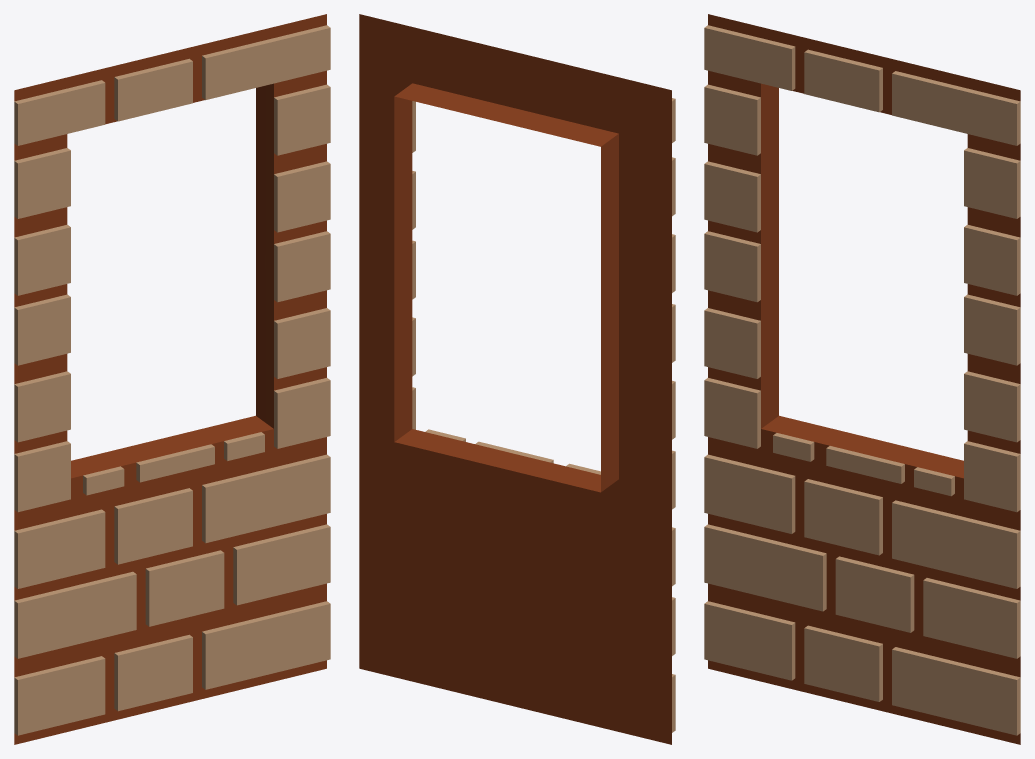
File: Ext-BrickV1SmallWindowframe.fbx
The picture shows the model from 3 angles, left to right: view 1: azimuth 30°, elevation 25°; view 2: azimuth 150°, elevation 25°; view 3: azimuth 330°, elevation 25°; orthographic projection.
Parts seen in each view (by area): view 1: Ext-BrickV1SmallWindowframe; view 2: Ext-BrickV1SmallWindowframe; view 3: Ext-BrickV1SmallWindowframe.
Boxes of the visible parts, left/top/right/bottom form: Ext-BrickV1SmallWindowframe: left=14, top=14, right=330, bottom=744; Ext-BrickV1SmallWindowframe: left=359, top=14, right=675, bottom=744; Ext-BrickV1SmallWindowframe: left=704, top=14, right=1020, bottom=744.
Size of the model in its own units: 100 by 200 by 12.
